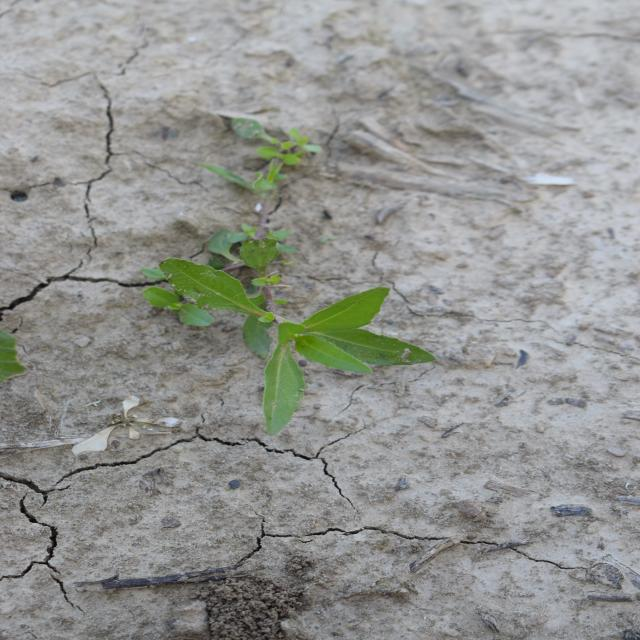Eclipta: (137, 118, 438, 436)
